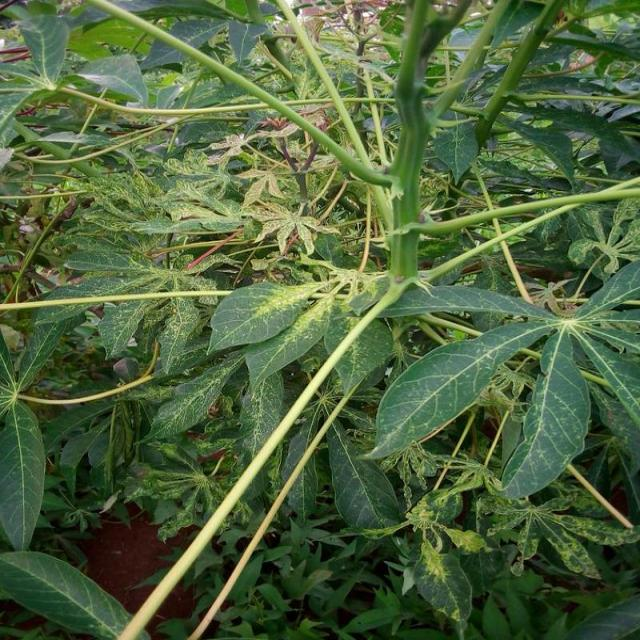cassava leaf: (366, 319, 555, 461), (499, 326, 592, 500), (1, 548, 150, 638), (207, 278, 326, 358), (2, 398, 47, 551)
